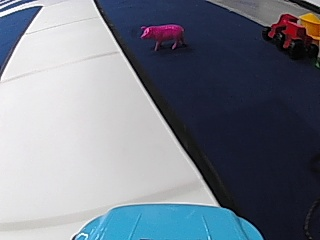pig: (137, 20, 186, 50)
